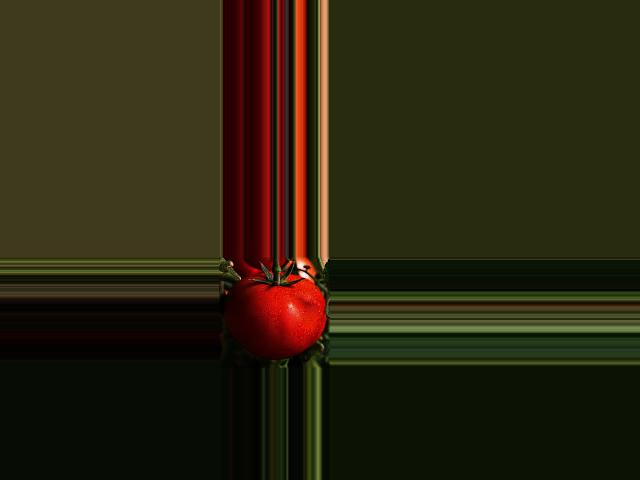tomato: (225, 272, 326, 359)
